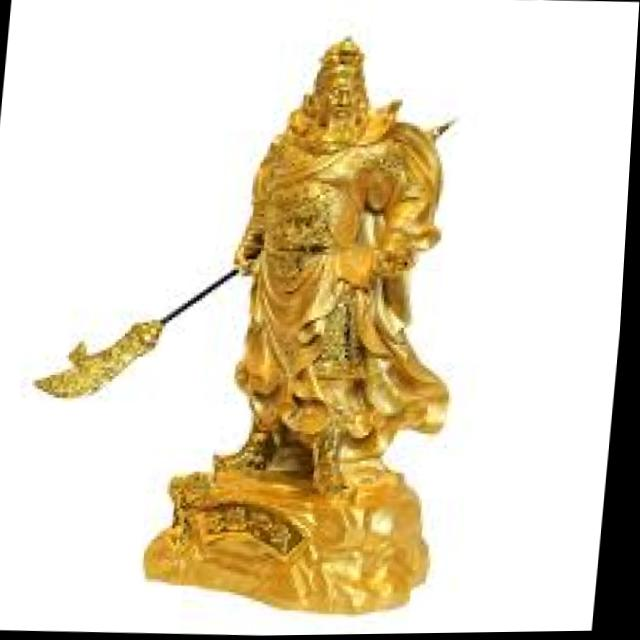Guan Yu: (215, 29, 469, 507)
